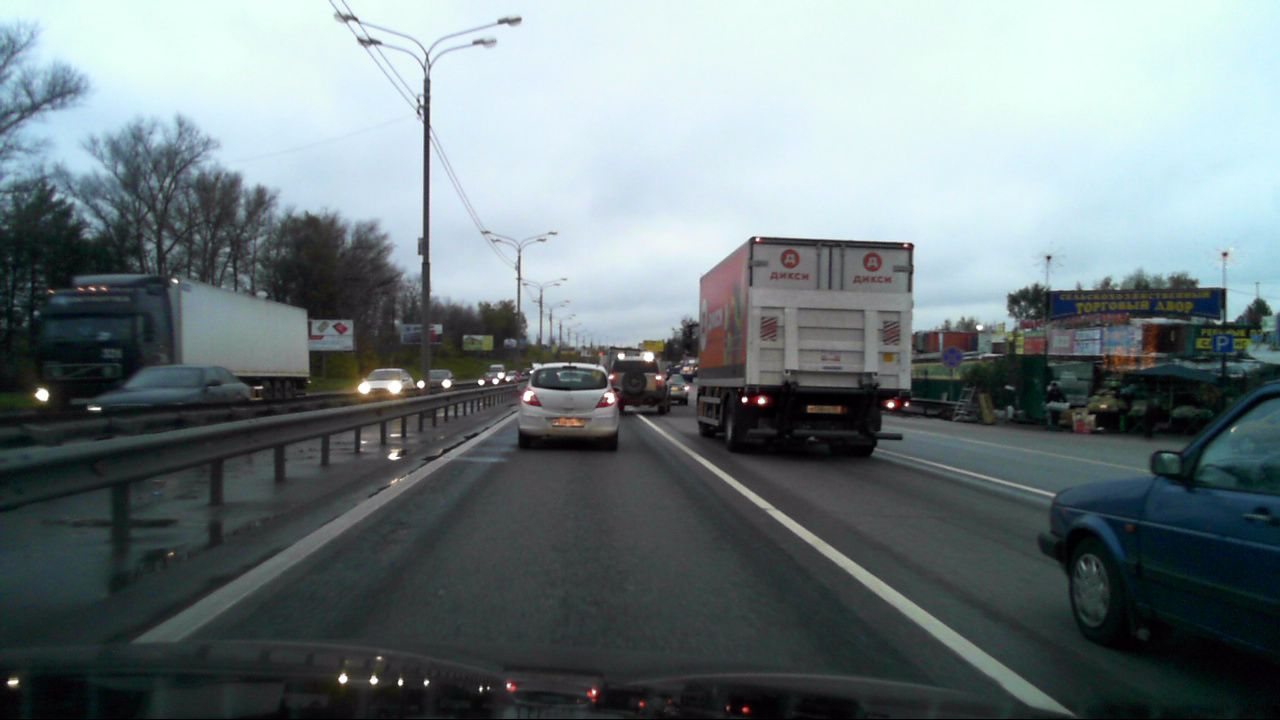No Parking: (941, 346, 963, 367)
